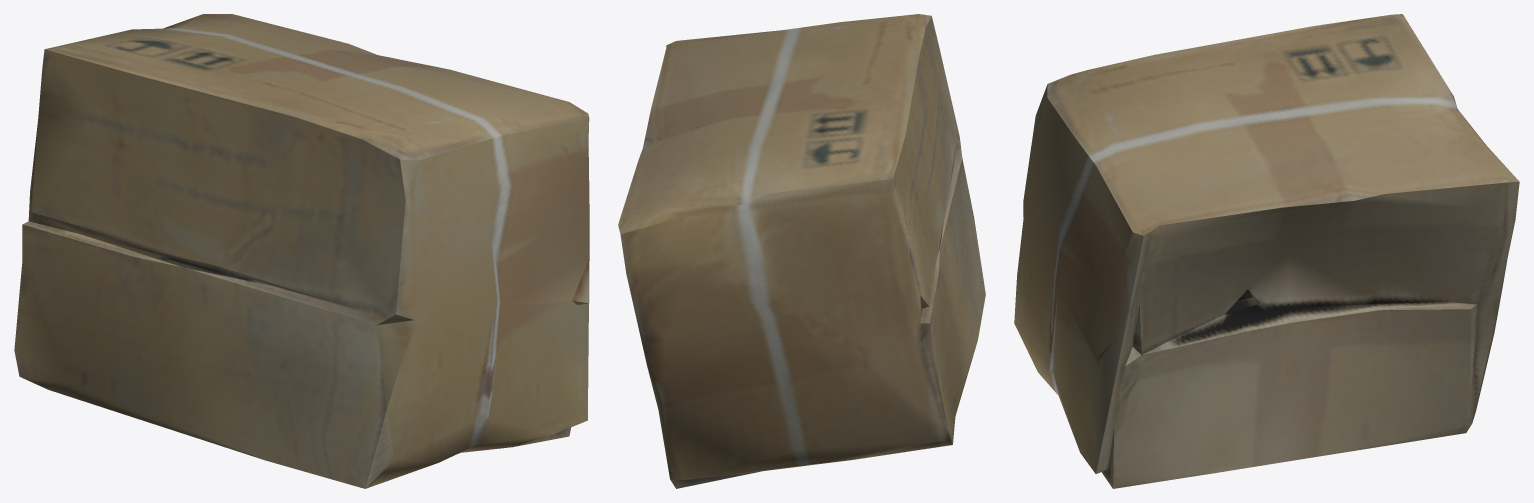
The model's file is BoxFallen.fbx.
The picture shows the model from 3 angles, left to right: view 1: azimuth 30°, elevation 25°; view 2: azimuth 150°, elevation 25°; view 3: azimuth 270°, elevation 25°; orthographic projection. The views are drawn at different scales.
Visible parts, largest first — view 1: BoxFallen; view 2: BoxFallen; view 3: BoxFallen.
Part boxes in pixels (box(x1,y1,x2,y2)): BoxFallen: box(14, 14, 589, 488); BoxFallen: box(618, 14, 985, 488); BoxFallen: box(1014, 14, 1519, 488).
Bounding box in the file's own units: 0.5292 × 0.4312 × 0.5855.
